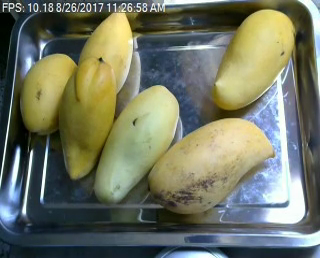Mango: (145, 117, 274, 215), (94, 84, 178, 206), (211, 9, 296, 113), (57, 57, 115, 181), (76, 7, 133, 93), (20, 54, 78, 134)
